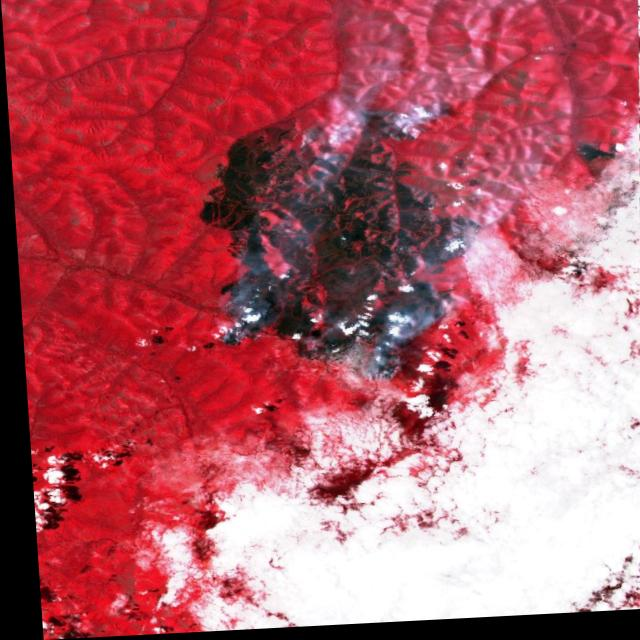fire: (311, 294, 442, 395), (191, 276, 283, 358), (368, 107, 436, 154)
